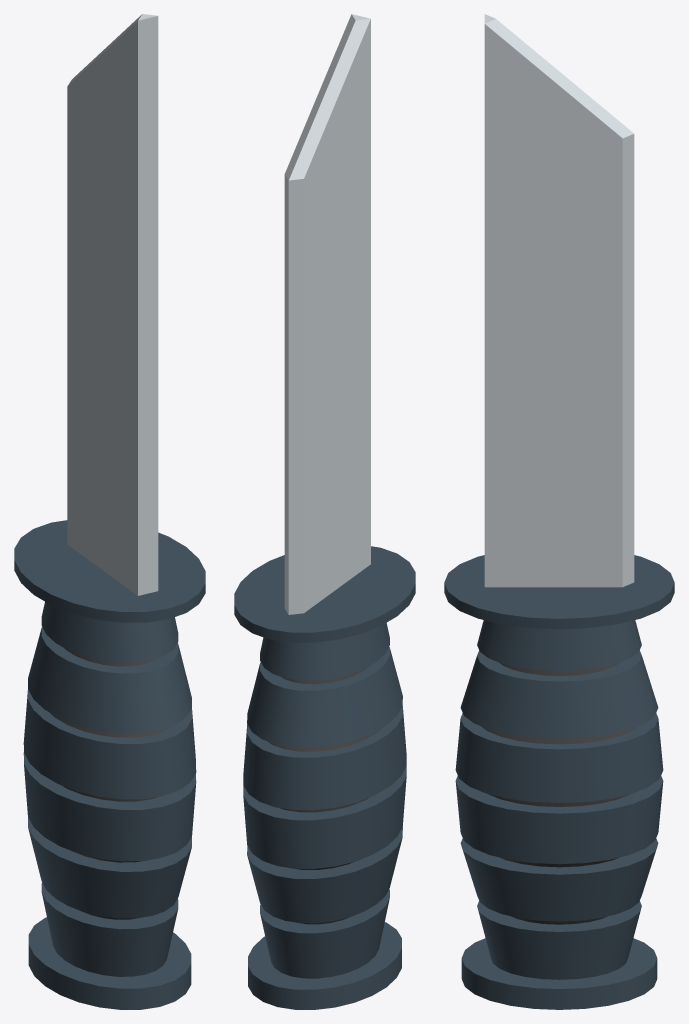
The model's file is knife_sharp.fbx.
The picture shows the model from 3 angles, left to right: view 1: azimuth 30°, elevation 25°; view 2: azimuth 150°, elevation 25°; view 3: azimuth 270°, elevation 25°; orthographic projection. The views are drawn at different scales.
Visible parts, largest first — view 1: knife_sharp; view 2: knife_sharp; view 3: knife_sharp.
Boxes of the visible parts, left/top/right/bottom form: knife_sharp: left=14, top=14, right=205, bottom=1009; knife_sharp: left=234, top=14, right=415, bottom=1009; knife_sharp: left=444, top=14, right=674, bottom=1009.
Bounding box in the file's own units: 0.5742 × 3.52 × 0.7656.
